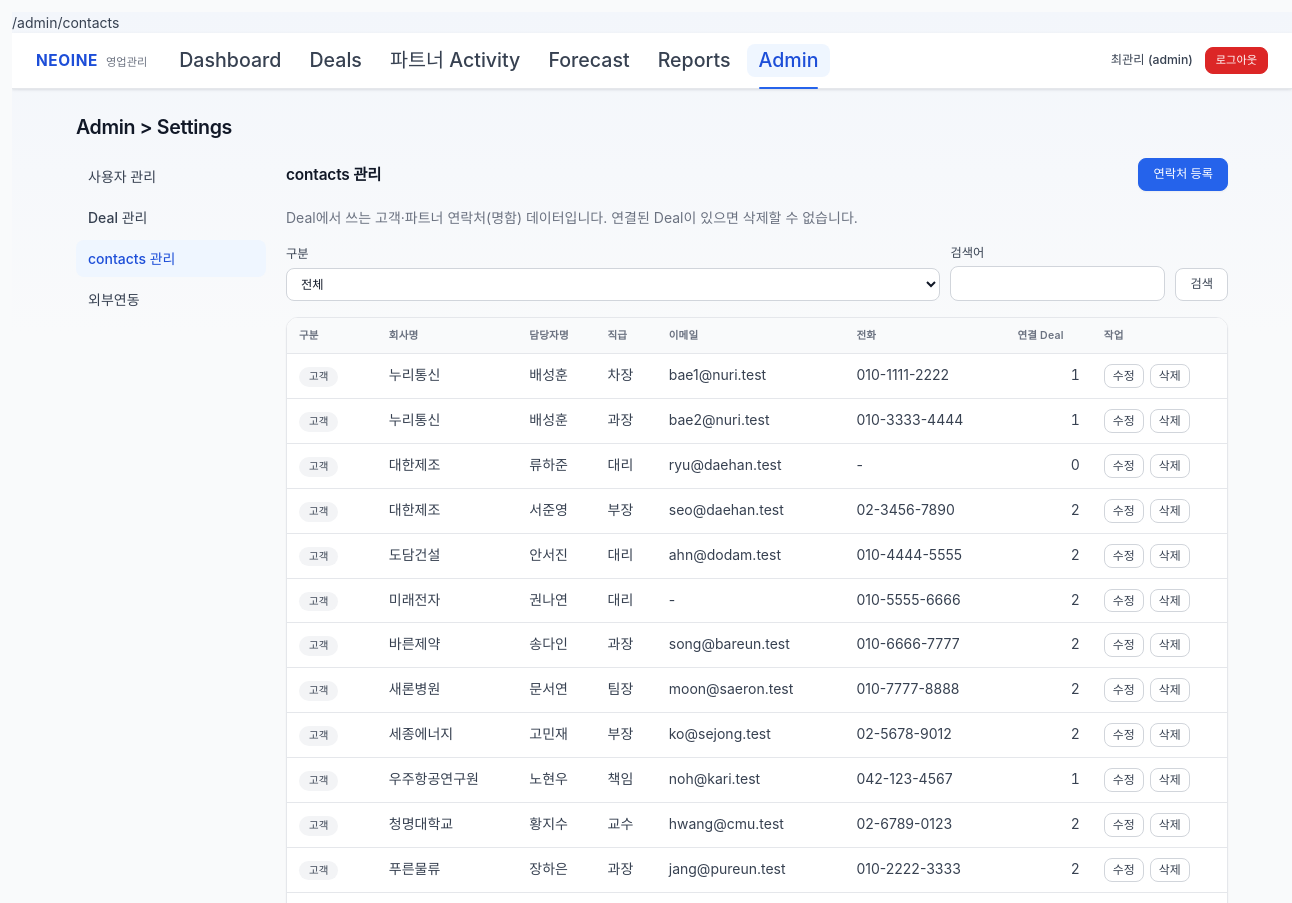
Test case: contacts 목록 (T-ADMIN-07) › shows an empty search message when nothing matches
In the field labelled "검색어": [1058, 283] box x1=950 y1=266 x2=1166 y2=300, type "없는회사"
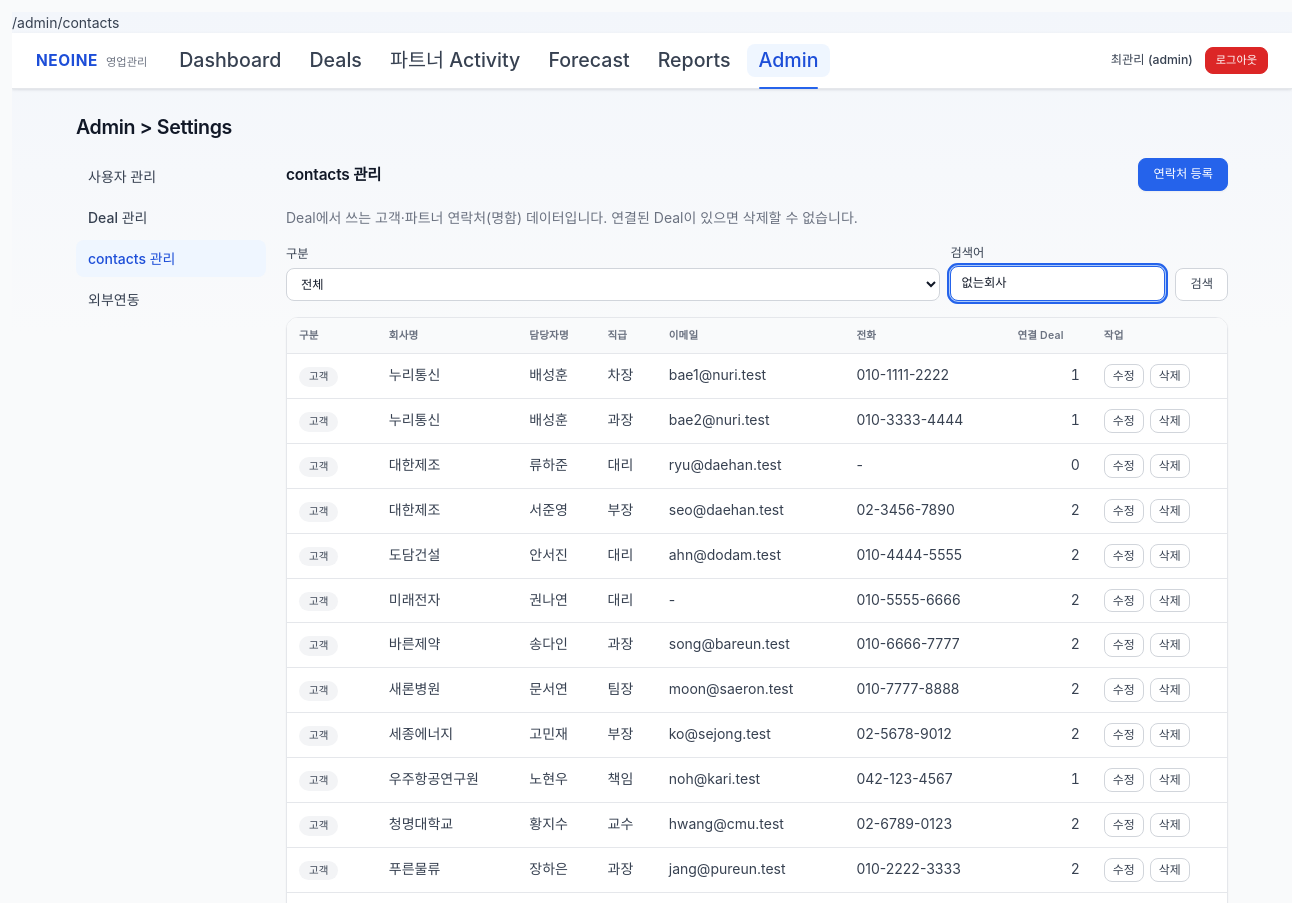
Click the button "검색": [1202, 284] box x1=1176 y1=268 x2=1228 y2=300
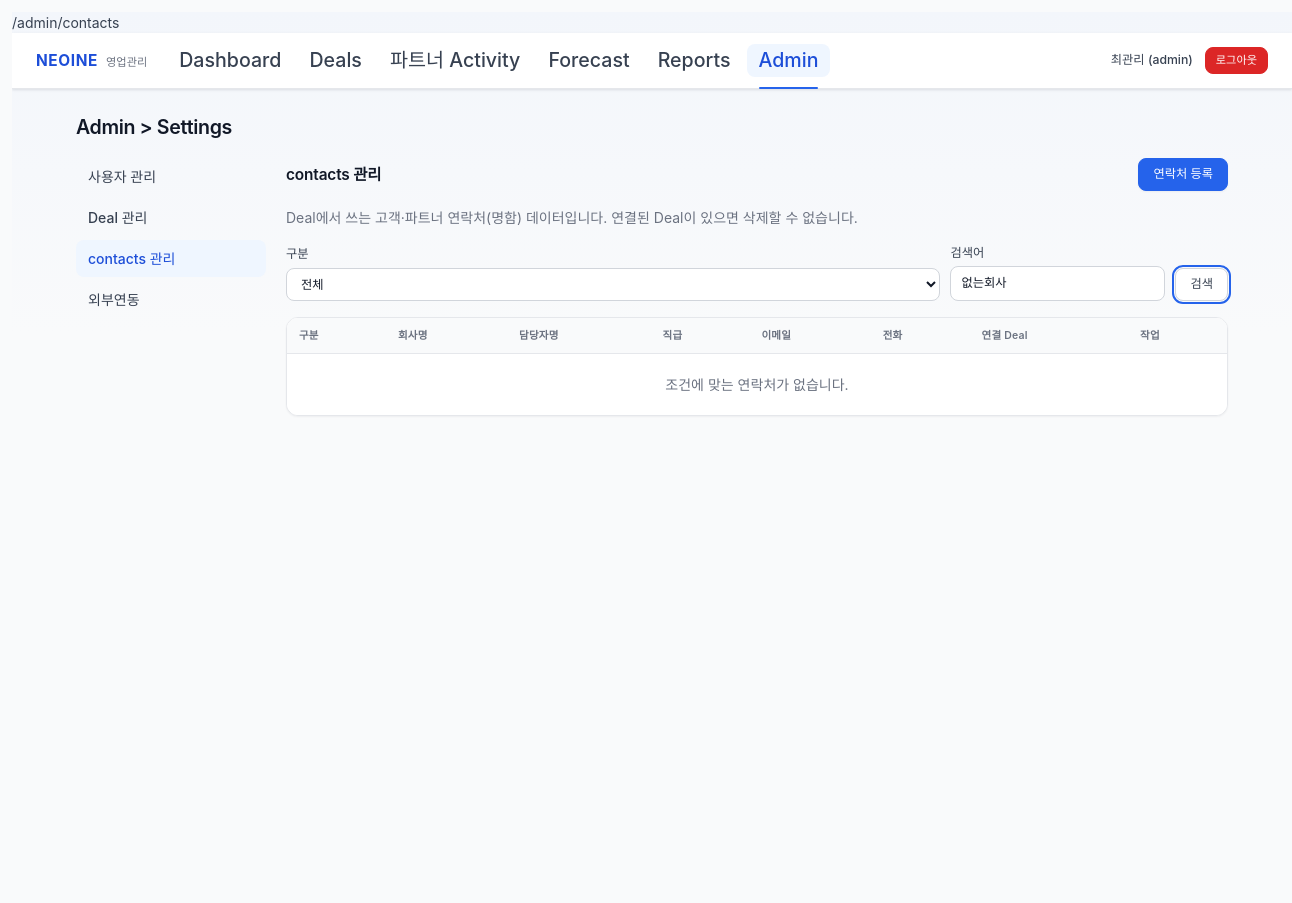
Check: the text "조건에 맞는 연락처가 없습니다." is shown, box x1=287 y1=354 x2=1227 y2=415
